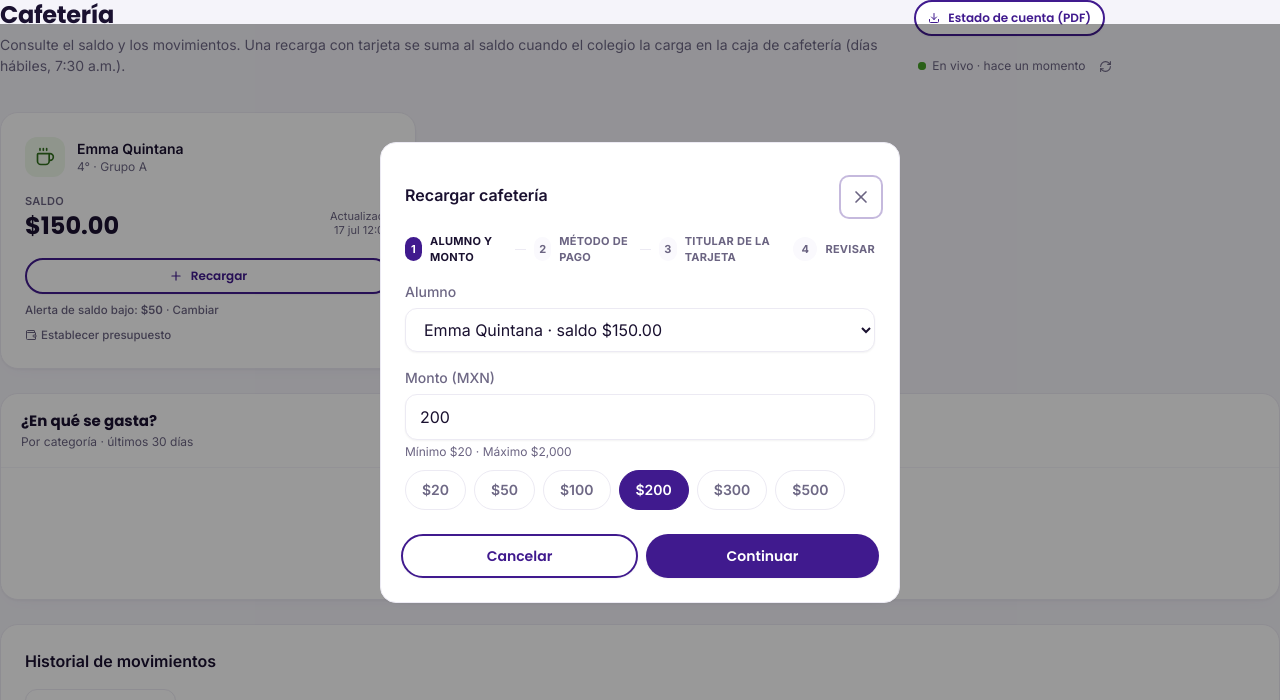
Test: CafeteriaPage scheduled application of card top-ups › tells the family before paying when the balance will be applied
Expected: the dialog "Recargar cafetería" is shown, x1=380 y1=142 x2=900 y2=602
Click the button "Continuar": point(762, 556) x1=646 y1=534 x2=879 y2=578
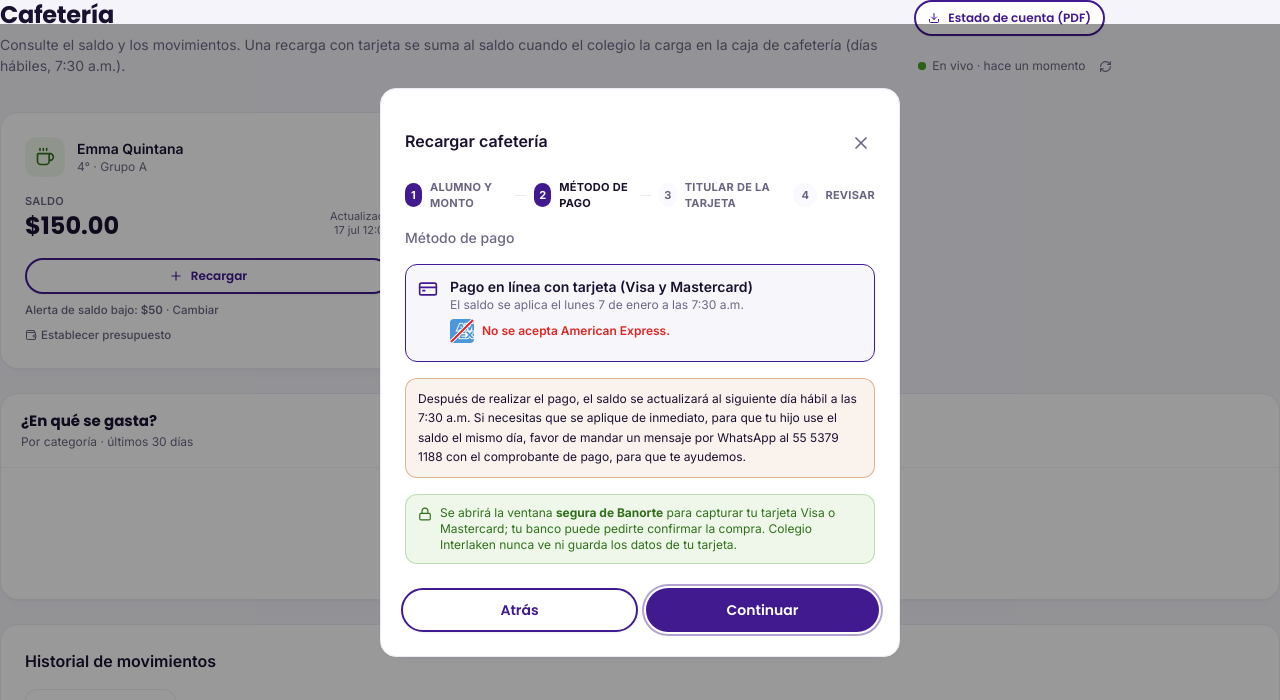
Result: the text "El saldo se aplica el lunes 7 de enero a las 7:30 a.m." is shown at x1=450 y1=296 x2=753 y2=312
Result: the text "Después de realizar el pago, el saldo se actualizará al siguiente día hábil a las 7:30 a.m." is shown at x1=418 y1=390 x2=857 y2=464
Result: the text "WhatsApp al 55 5379 1188" is shown at x1=418 y1=390 x2=857 y2=464
Click the button "Continuar": point(762, 610) x1=646 y1=588 x2=879 y2=632
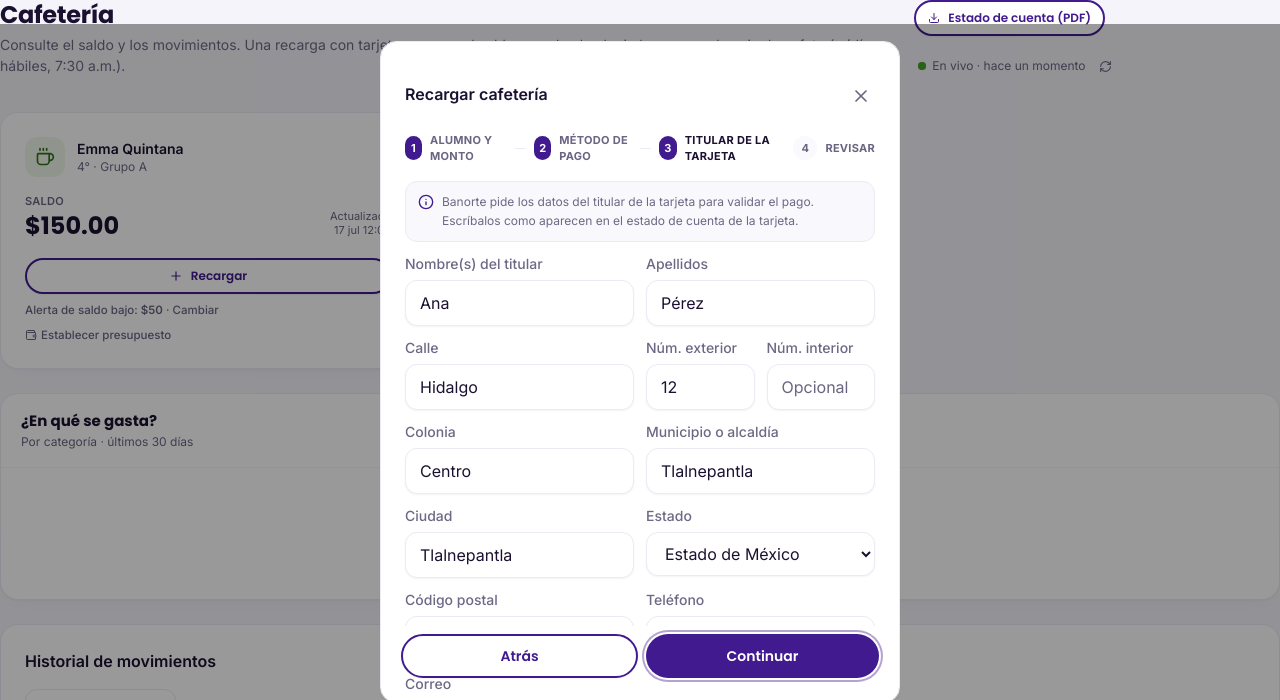
Result: the field showing "Centro" is shown at x1=405 y1=448 x2=634 y2=494
Click the button "Continuar": point(762, 656) x1=646 y1=634 x2=879 y2=678
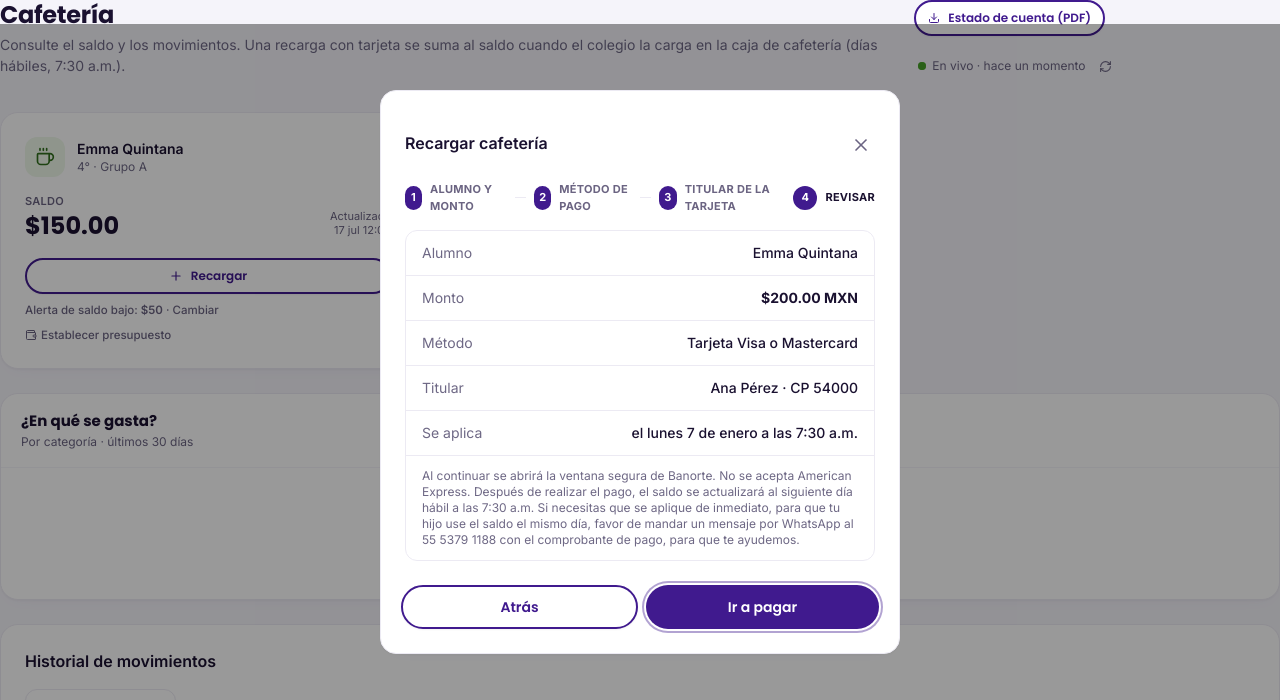
Result: the text "Se aplica" is shown at x1=422 y1=423 x2=482 y2=443
